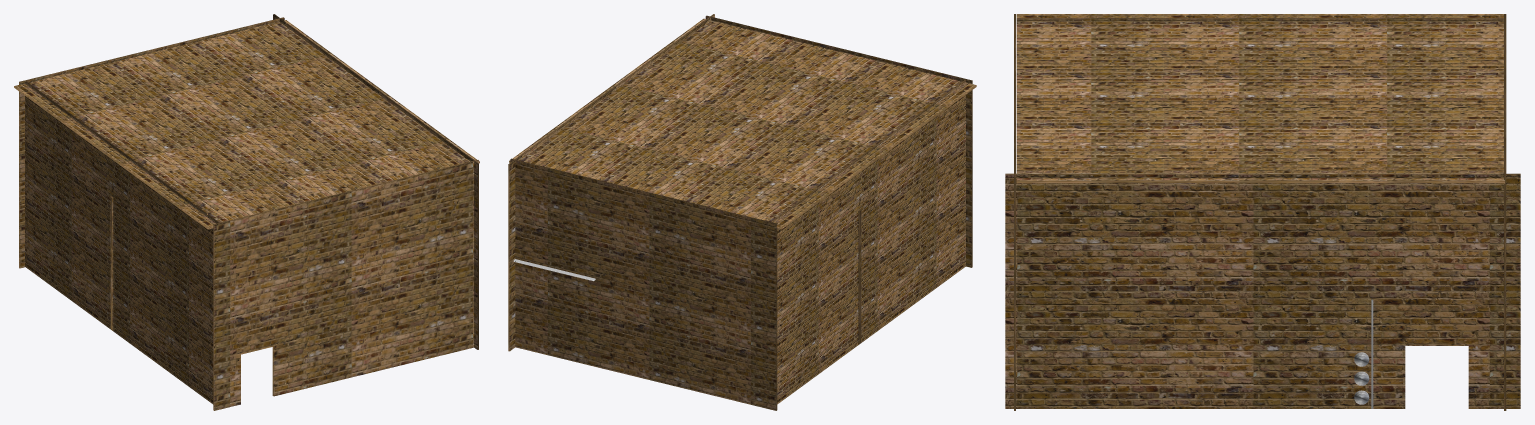
The model's file is habitacioA.fbx.
3 views of the same model, side by side, from view 1: azimuth 30°, elevation 25°; view 2: azimuth 150°, elevation 25°; view 3: azimuth 270°, elevation 25° (orthographic). The views are drawn at different scales.
Parts seen in each view (by area): view 1: Cube_006, Cube_000, Cube_001, Cube_003, Cube_005, pared_ligera; view 2: Cube_006, Cube_003, Cube_001, Cube_005, Cube_000, pared_ligera; view 3: Cube_005, Cube_006, Cube_001, Cube_003, Cube_000.
Boxes of the visible parts, x1,y1,x2,y2 form: Cube_006: [14, 20, 479, 229]; Cube_000: [213, 160, 478, 410]; Cube_001: [25, 81, 219, 404]; Cube_003: [19, 17, 284, 268]; Cube_005: [273, 14, 478, 349]; pared_ligera: [110, 196, 113, 330]; Cube_006: [509, 18, 976, 228]; Cube_003: [510, 158, 777, 410]; Cube_001: [771, 80, 965, 404]; Cube_005: [508, 14, 714, 351]; Cube_000: [705, 15, 972, 267]; pared_ligera: [858, 209, 861, 344]; Cube_005: [1005, 173, 1520, 408]; Cube_006: [1016, 14, 1504, 183]; Cube_001: [1016, 18, 1503, 21]; Cube_003: [1504, 14, 1506, 410]; Cube_000: [1014, 14, 1015, 410].
Bounding box in the file's own units: 59.71 × 39.65 × 77.77.
